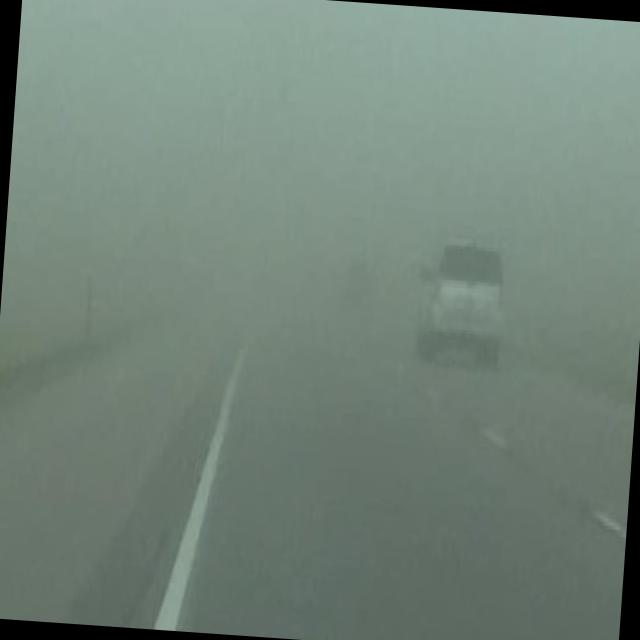car: (414, 235, 512, 367)
